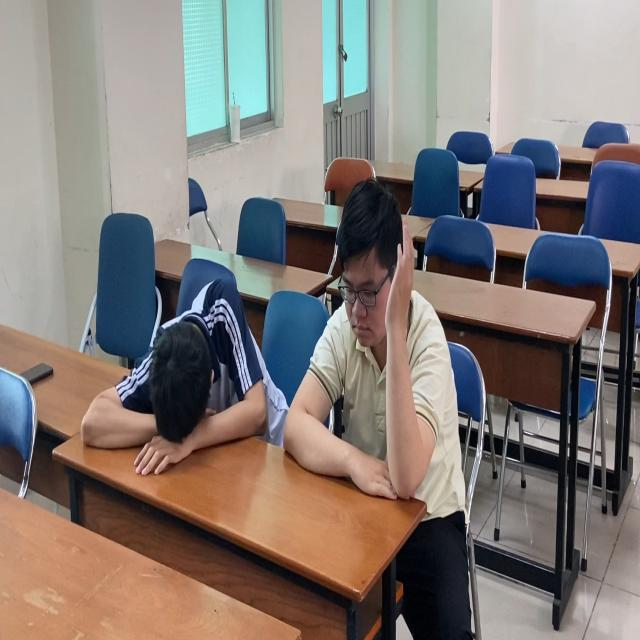raise_hand: (319, 175, 463, 522)
sleep: (83, 300, 286, 487)
